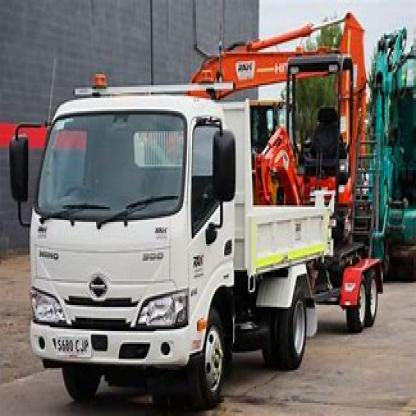dump_truck: (13, 68, 334, 407)
